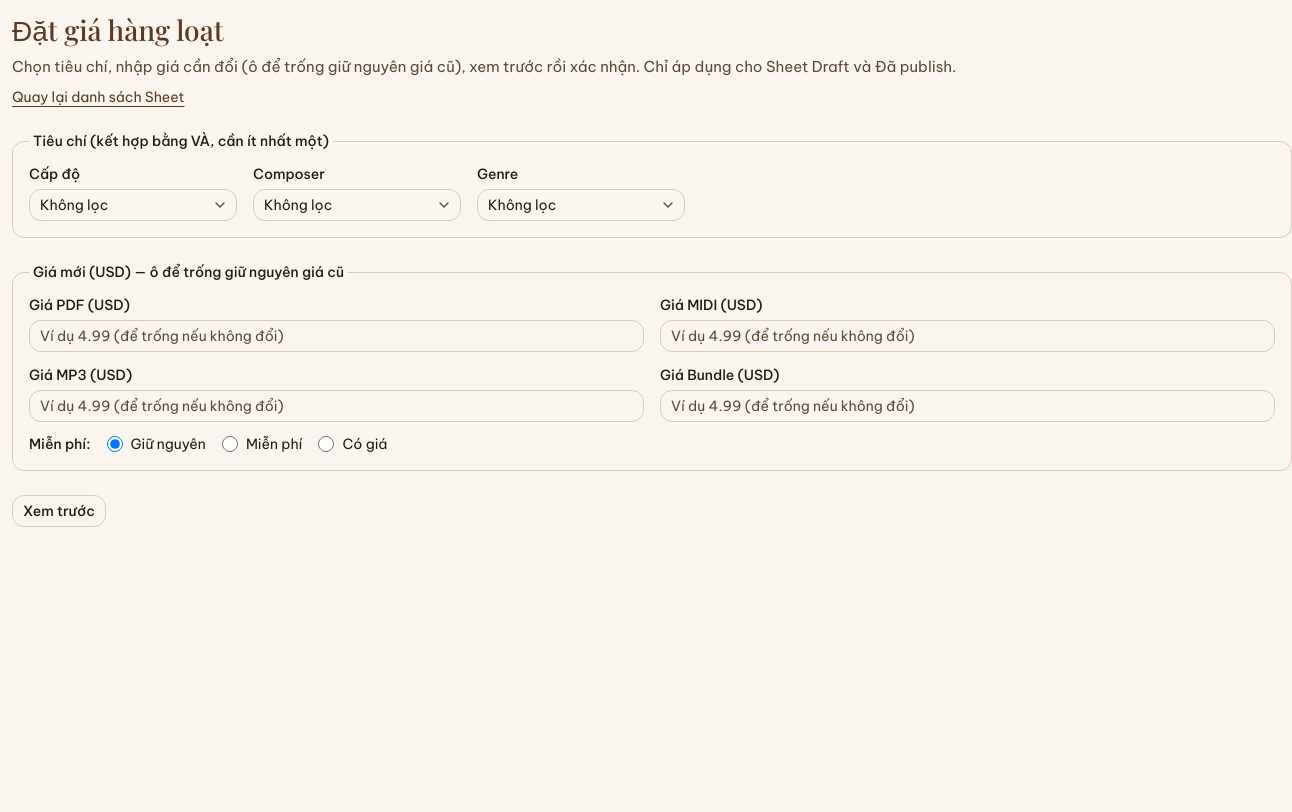
Test: Trang đặt giá hàng loạt › xem trước rồi xác nhận: gửi cents, ô trống vắng mặt, kèm expectedCount
The width and height of the screenshot is (1292, 812).
Click the dropdown named "Cấp độ" at (133, 205), box x1=29 y1=189 x2=237 y2=221
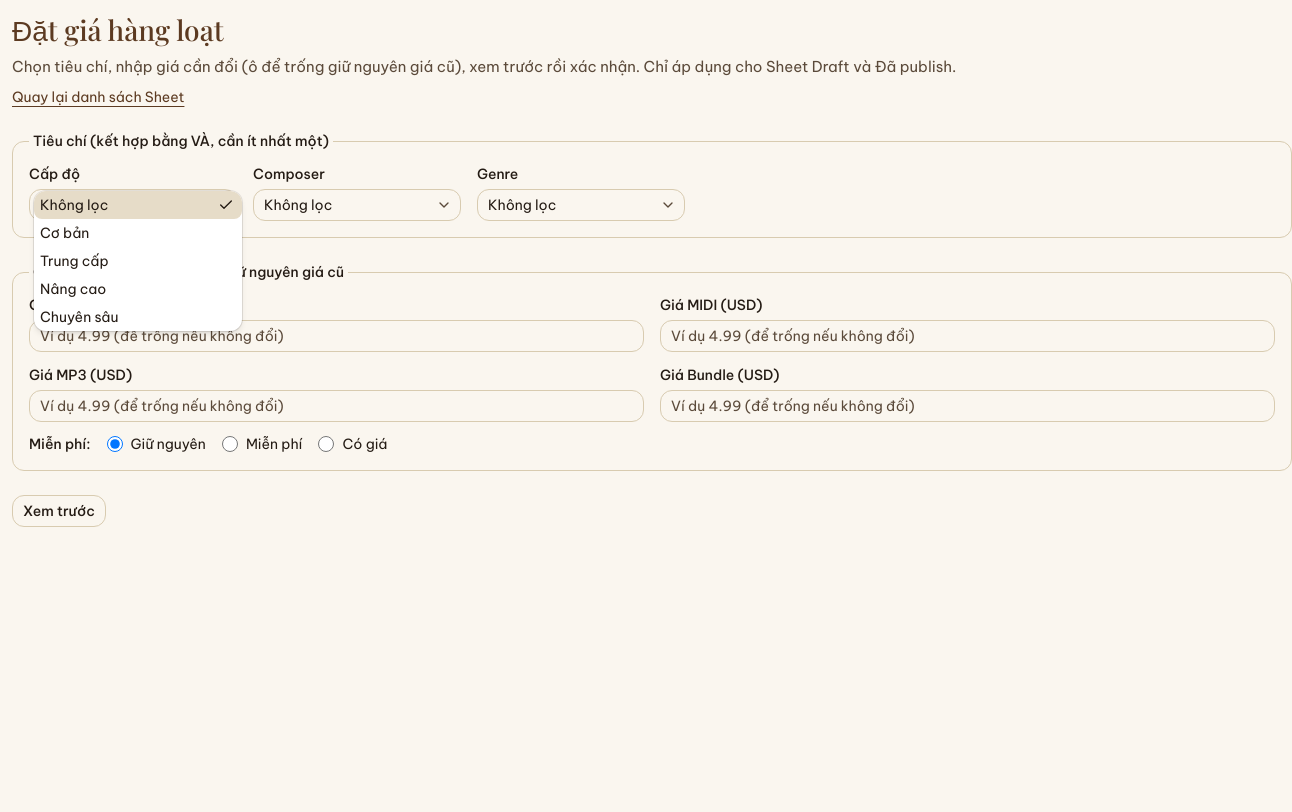
Click the option "Cơ bản" at (65, 233), box x1=40 y1=224 x2=89 y2=242
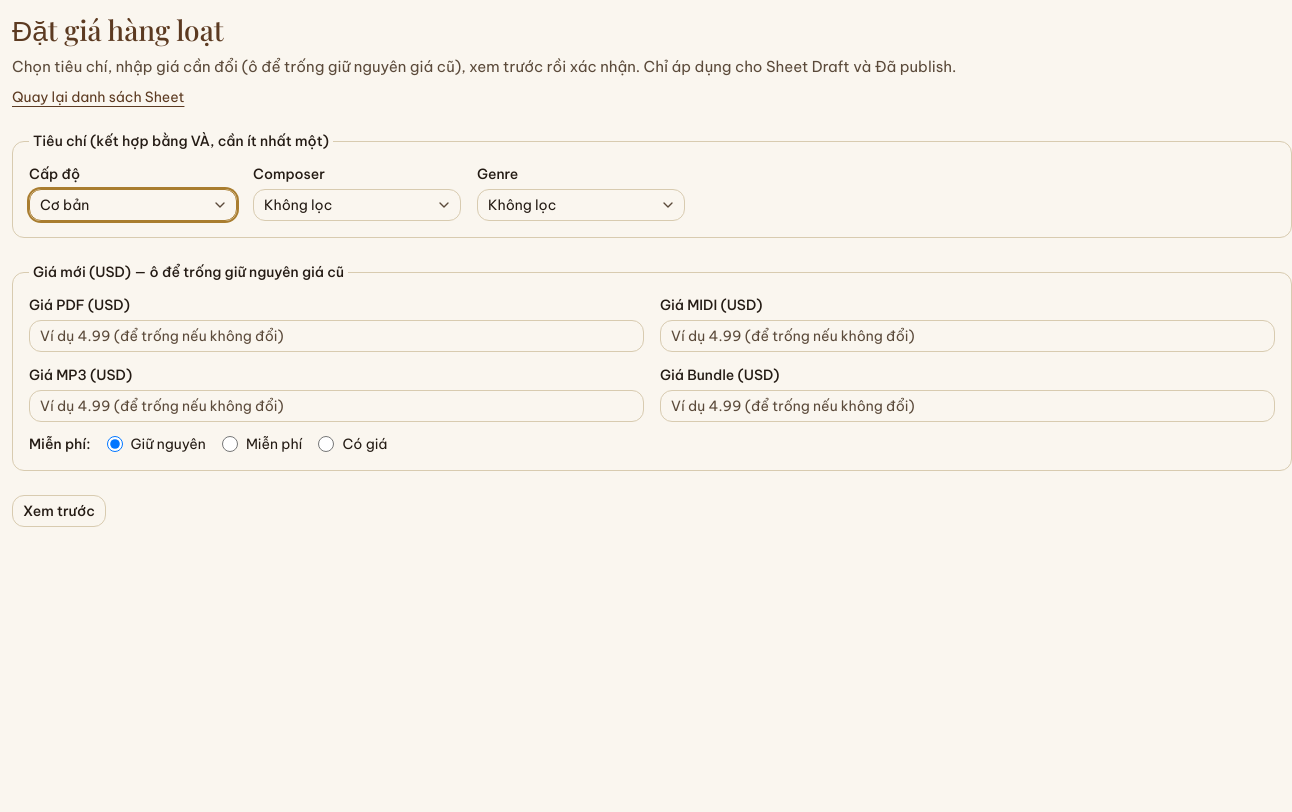
Type "3.00" into the field labelled "Giá PDF (USD)" at (336, 336), box x1=29 y1=320 x2=644 y2=352
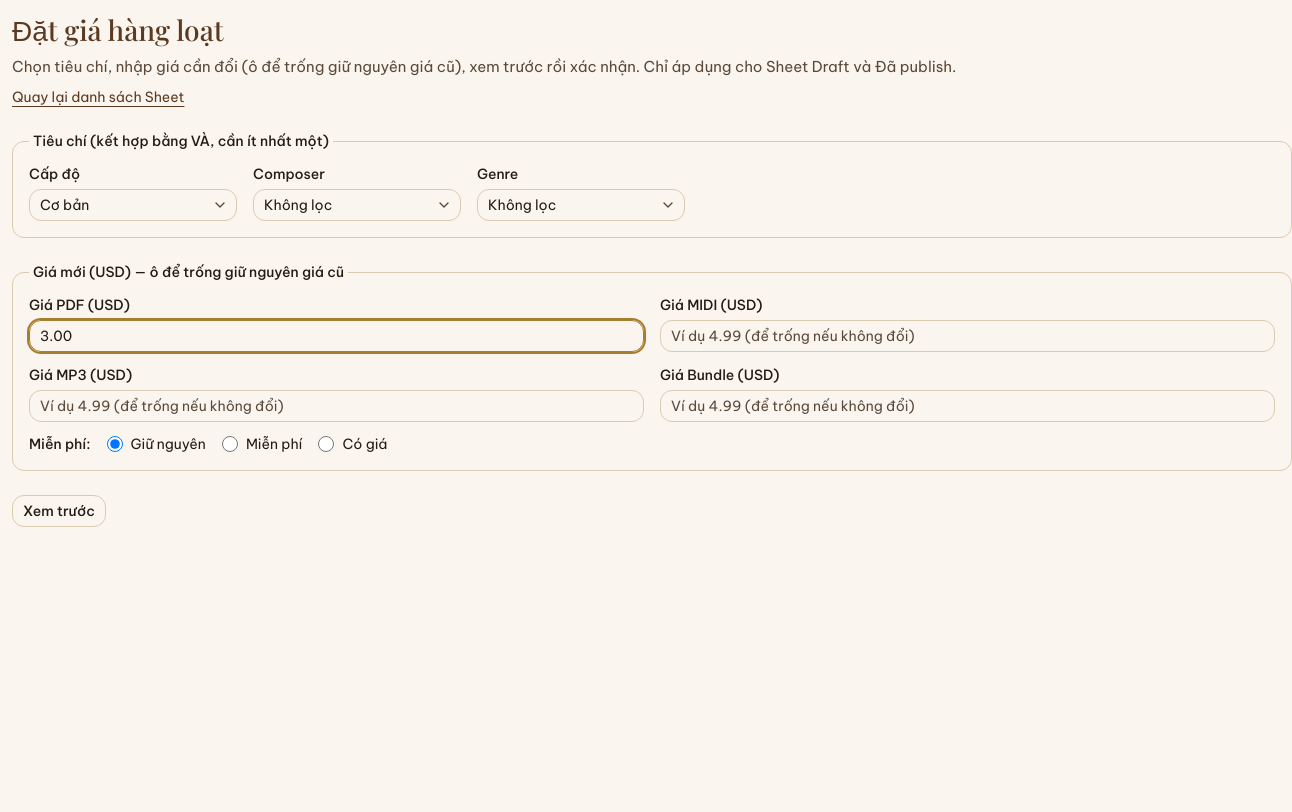
Click the button "Xem trước" at (59, 511), box x1=12 y1=495 x2=106 y2=527
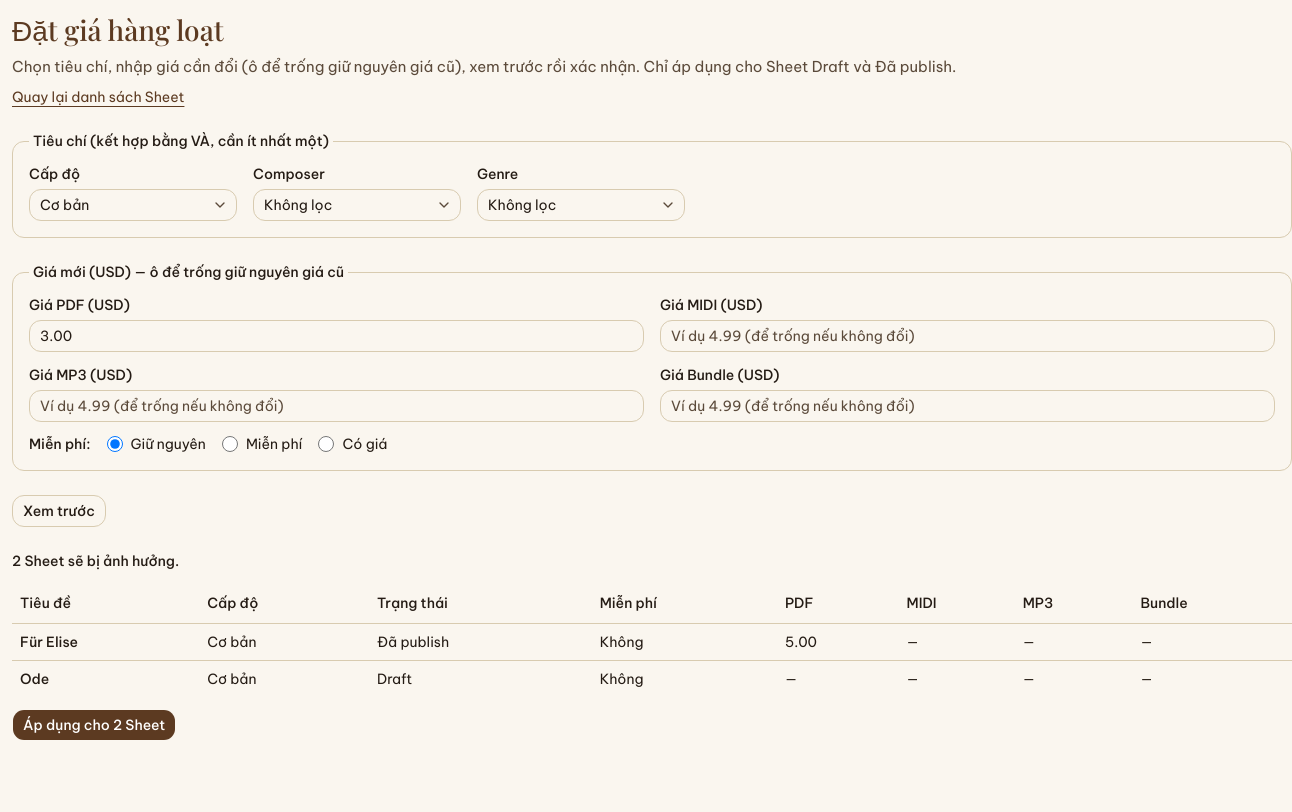
Expected: the text "2 Sheet sẽ bị ảnh hưởng." is shown, x1=12 y1=552 x2=179 y2=570
Expected: the cell "Für Elise" is shown, x1=12 y1=623 x2=199 y2=660
Click the button "Áp dụng cho 2 Sheet" at (94, 724), box x1=12 y1=708 x2=176 y2=740
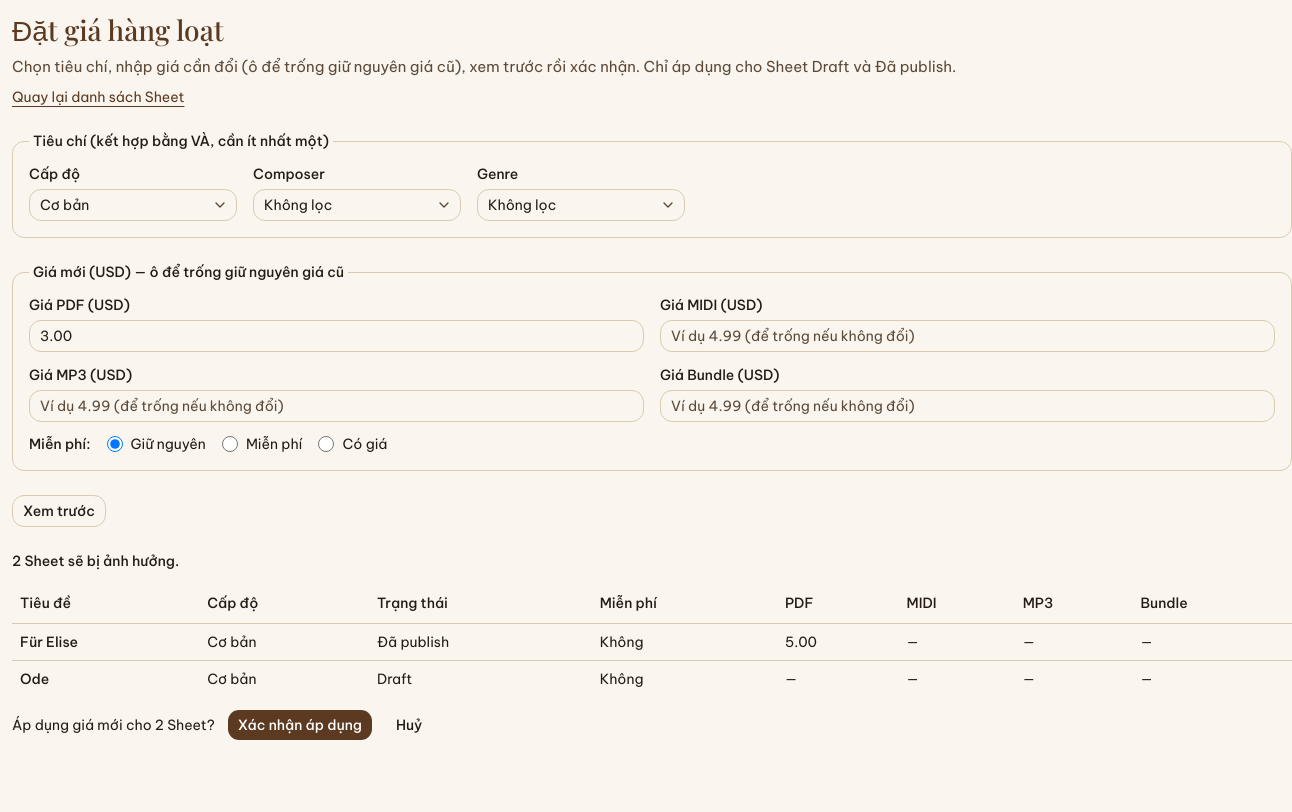
Click the button "Xác nhận áp dụng" at (300, 724), box x1=227 y1=708 x2=373 y2=740
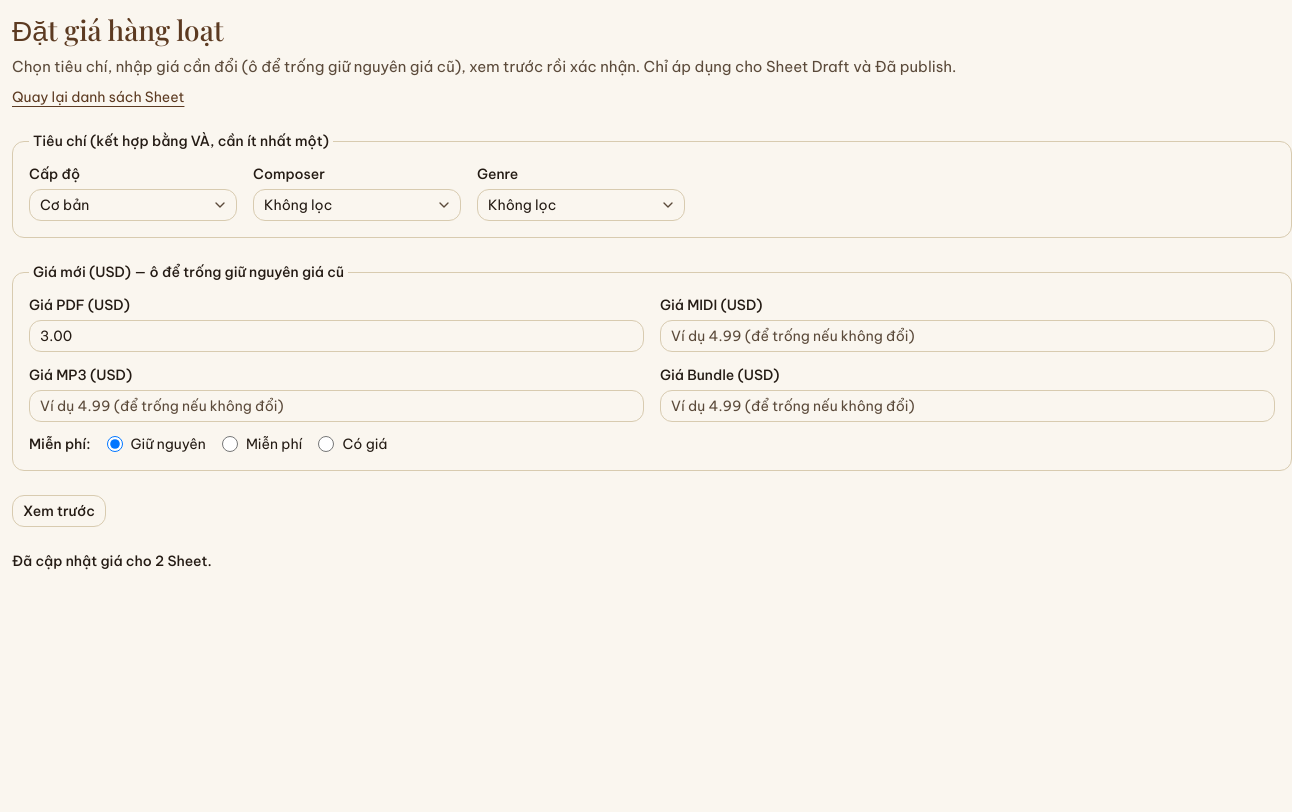
Expected: the text "Đã cập nhật giá cho 2 Sheet." is shown, x1=12 y1=552 x2=212 y2=570
